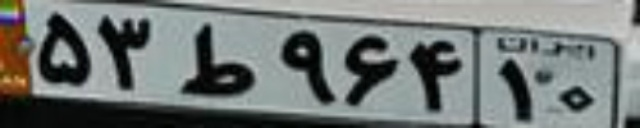0: (550, 84, 594, 112)
1: (496, 59, 534, 121)
3: (97, 14, 154, 89)
4: (405, 40, 466, 110)
5: (34, 11, 94, 85)
6: (340, 33, 399, 105)
9: (278, 30, 333, 104)
taa: (176, 22, 256, 95)
